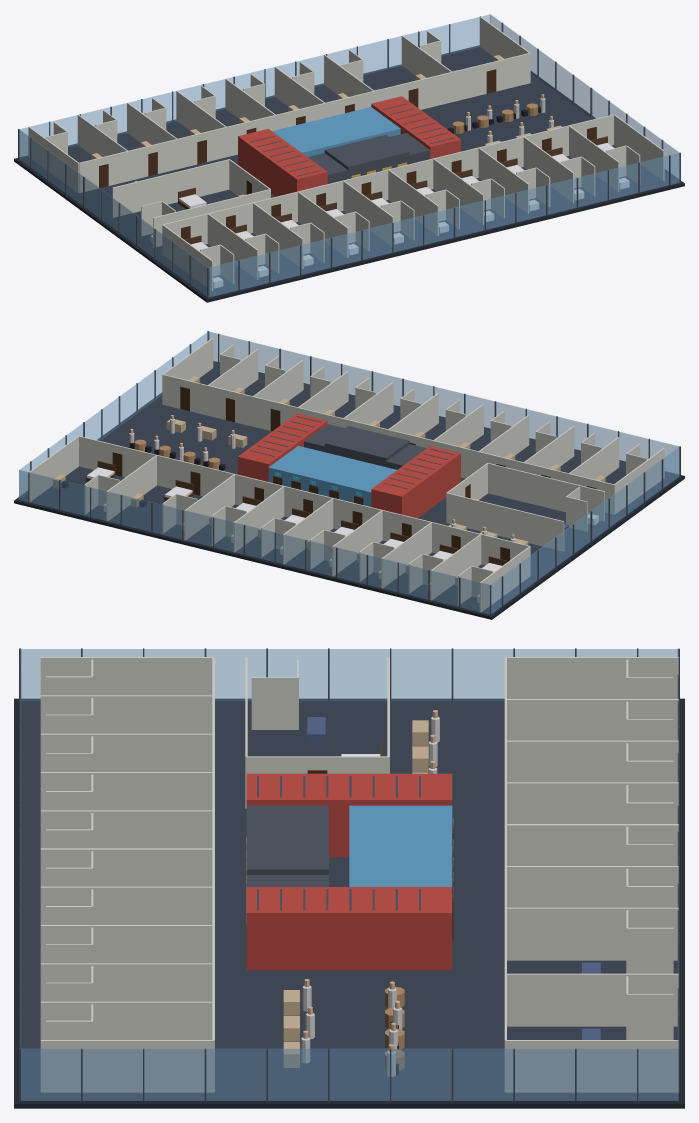
3 views of the same model, one above another, from view 1: azimuth 30°, elevation 25°; view 2: azimuth 150°, elevation 25°; view 3: azimuth 270°, elevation 25° (orthographic). The views are drawn at different scales.
Parts seen in each view (by area): view 1: L17_wall, L17_glass, L17_floor_carpet, L17_core, L17_stair, L17_slab, L17_wash, L17_door_closed, L17_bed_frame, L17_bed, L17_bath, L17_desk (+1 smaller); view 2: L17_wall, L17_glass, L17_floor_carpet, L17_stair, L17_core, L17_wash, L17_slab, L17_door_closed, L17_desk, L17_bed_frame, L17_bed, L17_role_housekeeper (+1 smaller); view 3: L17_wall, L17_floor_carpet, L17_glass, L17_stair, L17_core, L17_slab, L17_wash, L17_desk, L17_role_housekeeper, L17_sofa, L17_table.
Part boxes in pixels (<box>): L17_wall: <box>28,17,664,290</box>; L17_glass: <box>19,14,679,296</box>; L17_floor_carpet: <box>19,46,679,297</box>; L17_core: <box>18,16,680,298</box>; L17_stair: <box>238,96,460,196</box>; L17_slab: <box>14,45,684,302</box>; L17_wash: <box>272,107,400,156</box>; L17_door_closed: <box>99,69,596,239</box>; L17_bed_frame: <box>178,136,607,244</box>; L17_bed: <box>179,143,614,250</box>; L17_bath: <box>150,177,629,288</box>; L17_desk: <box>91,55,562,196</box>; L17_wall: <box>28,338,664,612</box>; L17_glass: <box>19,331,679,614</box>; L17_floor_carpet: <box>19,362,679,614</box>; L17_stair: <box>238,413,460,518</box>; L17_core: <box>28,331,680,615</box>; L17_wash: <box>268,445,396,506</box>; L17_slab: <box>14,361,684,619</box>; L17_door_closed: <box>112,386,596,562</box>; L17_desk: <box>53,376,605,585</box>; L17_bed_frame: <box>85,461,506,565</box>; L17_bed: <box>87,467,501,572</box>; L17_role_housekeeper: <box>129,418,515,542</box>; L17_wall: <box>40,657,678,1092</box>; L17_floor_carpet: <box>21,700,678,1101</box>; L17_glass: <box>20,649,678,1100</box>; L17_stair: <box>246,773,452,970</box>; L17_core: <box>19,648,679,1101</box>; L17_slab: <box>14,698,684,1108</box>; L17_wash: <box>349,805,452,886</box>; L17_desk: <box>283,720,428,1067</box>; L17_role_housekeeper: <box>301,716,439,1076</box>; L17_sofa: <box>307,717,600,1039</box>; L17_table: <box>385,986,404,1070</box>.
Bounding box in the file's own units: 46.6 × 3.37 × 32.6.
